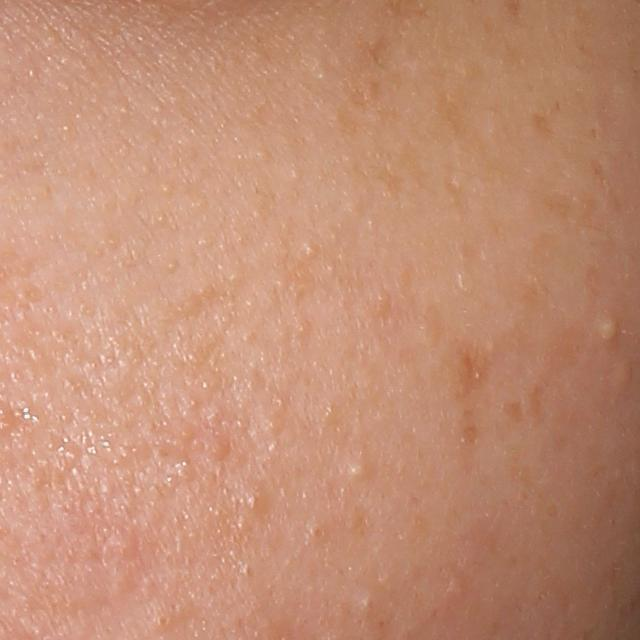atrophic_scar: (454, 349, 488, 405)
comedo: (239, 490, 268, 516), (344, 461, 372, 486), (356, 592, 382, 616), (148, 610, 175, 633), (597, 319, 621, 344), (308, 525, 327, 544), (301, 242, 318, 260)
